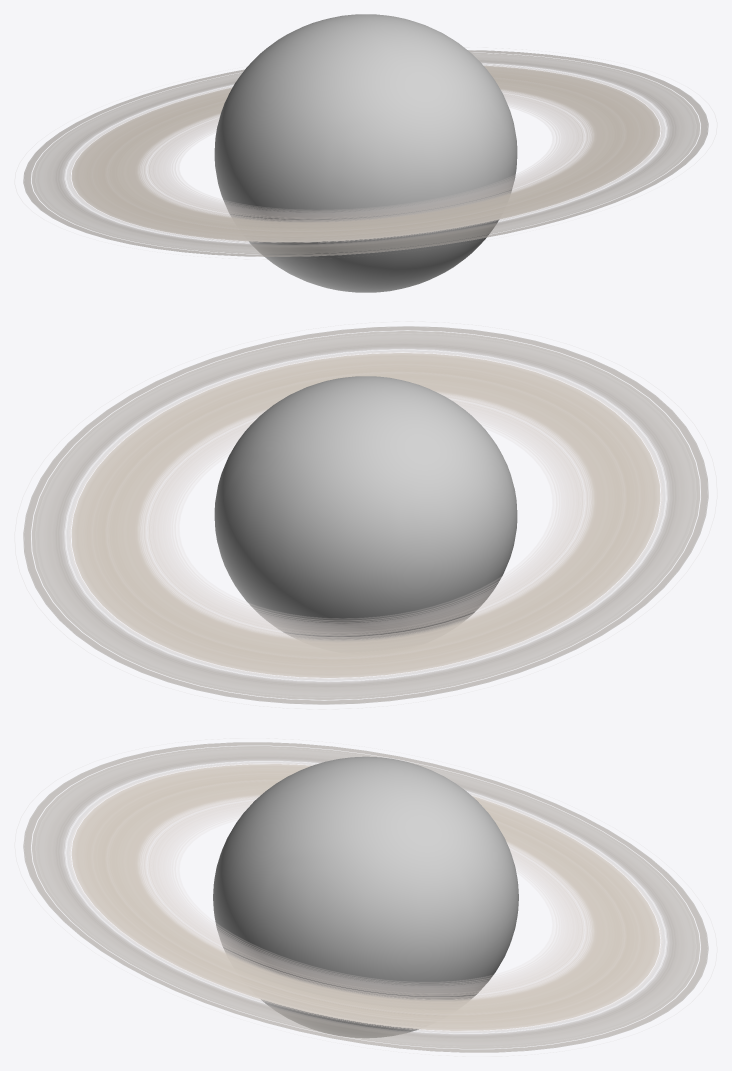
File: saturn.gltf
3 views of the same model, one above another, from view 1: azimuth 30°, elevation 25°; view 2: azimuth 150°, elevation 25°; view 3: azimuth 270°, elevation 25° (orthographic).
Parts seen in each view (by area): view 1: RingsTop, Saturn.001; view 2: RingsTop, Saturn.001; view 3: RingsTop, Saturn.001.
Part boxes in pixels (x1,y1,x2,y2): RingsTop: (23, 50, 708, 256); Saturn.001: (214, 14, 517, 292); RingsTop: (23, 326, 708, 704); Saturn.001: (214, 376, 517, 641); RingsTop: (23, 742, 708, 1052); Saturn.001: (213, 756, 518, 1037).
Size of the model in its own units: 31.41 by 12.16 by 31.
